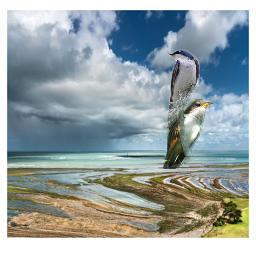Cuckoo: (163, 99, 213, 169)
Swallow: (165, 49, 200, 131)
